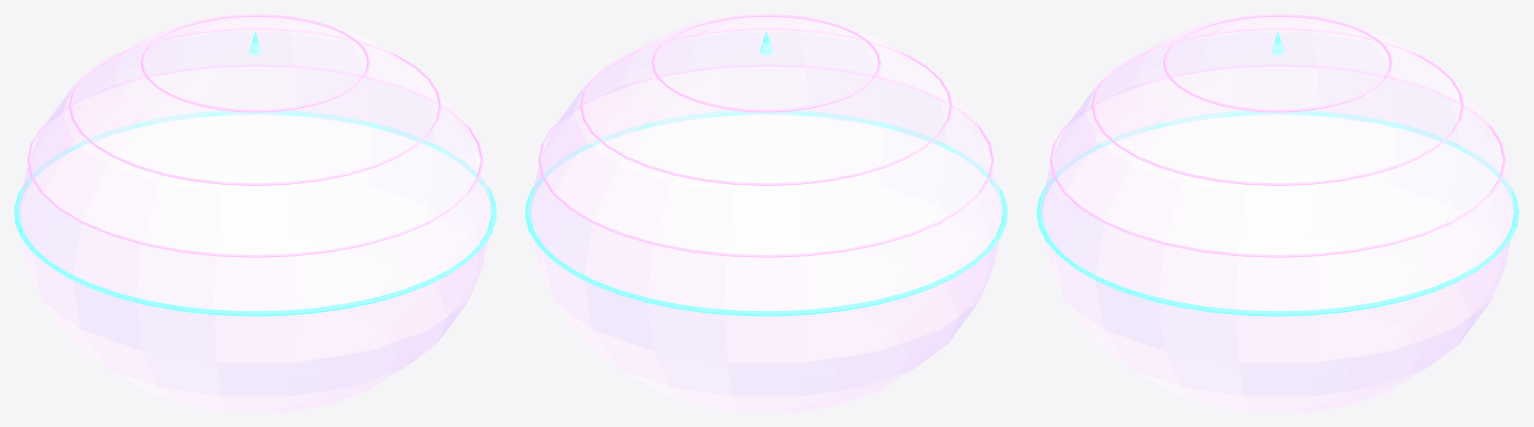
File: fx_pressure_husk.glb
3 renders of one model, left to right at view 1: azimuth 30°, elevation 25°; view 2: azimuth 150°, elevation 25°; view 3: azimuth 270°, elevation 25°, orthographic.
Visible parts, largest first — view 1: fx_pressure_husk_ghost, fx_pressure_husk_beam, fx_pressure_husk_lume, fx_pressure_husk_glow; view 2: fx_pressure_husk_ghost, fx_pressure_husk_beam, fx_pressure_husk_lume, fx_pressure_husk_glow; view 3: fx_pressure_husk_ghost, fx_pressure_husk_beam, fx_pressure_husk_lume, fx_pressure_husk_glow.
Part boxes in pixels (x1,y1,x2,y2): fx_pressure_husk_ghost: [18, 16, 492, 412]; fx_pressure_husk_beam: [20, 114, 490, 310]; fx_pressure_husk_lume: [27, 14, 483, 257]; fx_pressure_husk_glow: [14, 31, 496, 316]; fx_pressure_husk_ghost: [529, 16, 1003, 412]; fx_pressure_husk_beam: [531, 114, 1001, 310]; fx_pressure_husk_lume: [538, 14, 994, 257]; fx_pressure_husk_glow: [525, 31, 1007, 316]; fx_pressure_husk_ghost: [1040, 16, 1515, 412]; fx_pressure_husk_beam: [1042, 114, 1513, 310]; fx_pressure_husk_lume: [1050, 14, 1505, 257]; fx_pressure_husk_glow: [1036, 31, 1519, 316].
Size of the model in its own units: 8.1 by 6.6 by 8.1.
